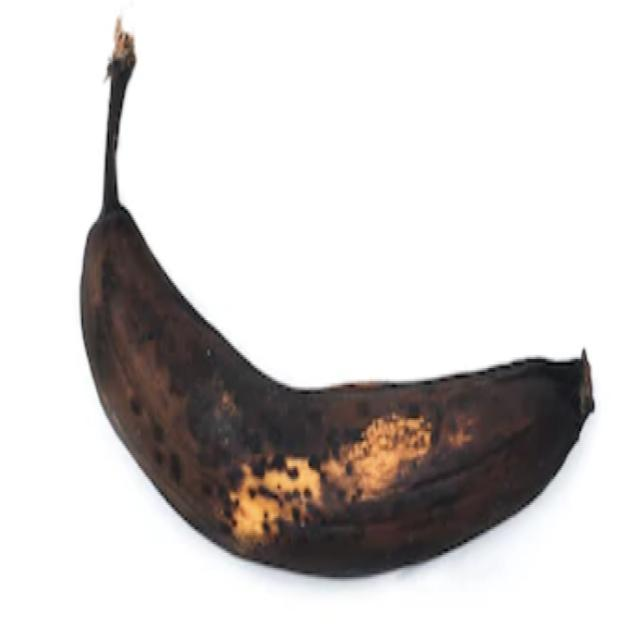Rotten: (60, 27, 611, 596)
